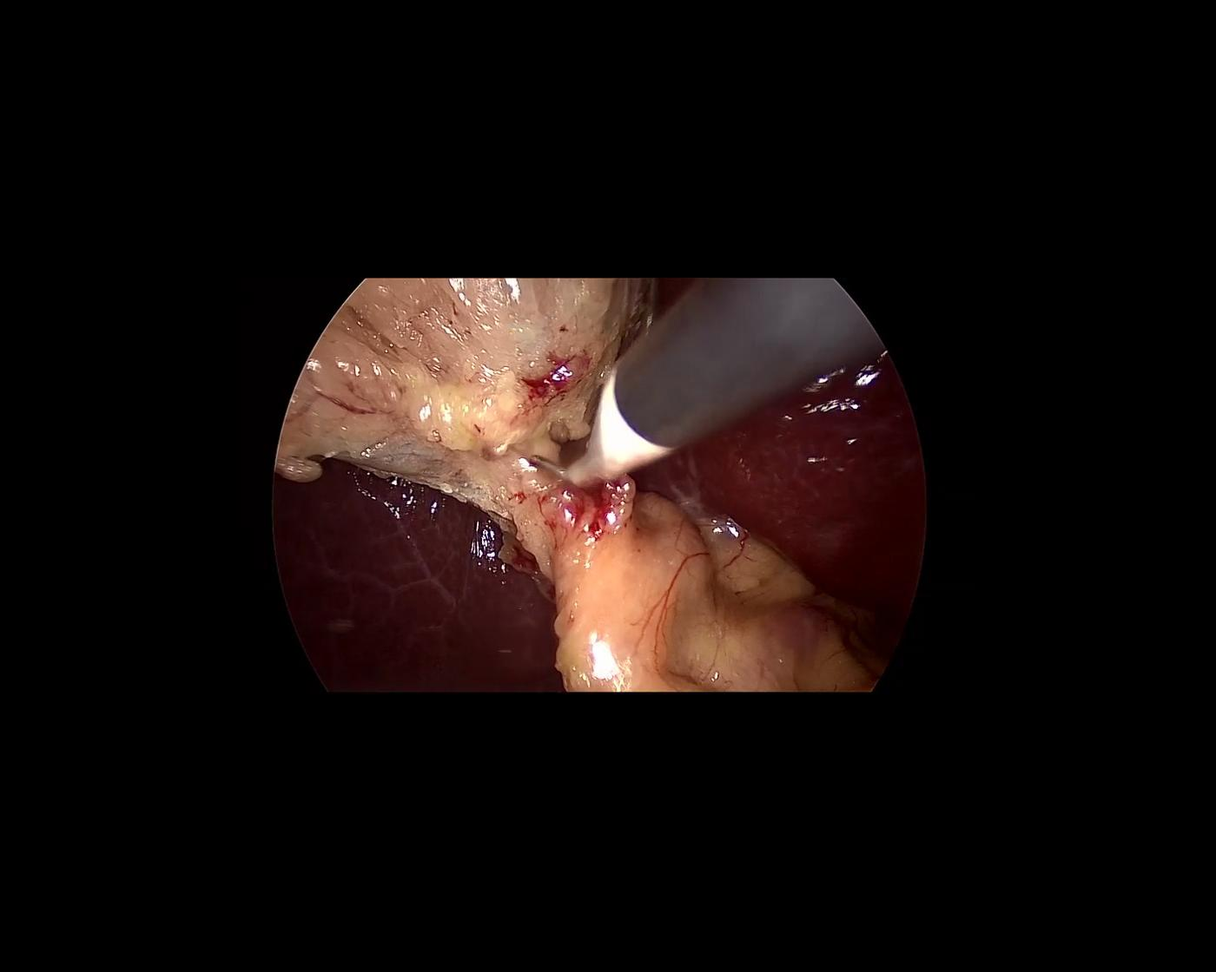Cautery: (490, 219, 890, 508)
Gallbladder: (271, 255, 642, 545)
Liver: (626, 342, 1008, 719), (272, 455, 565, 695)
